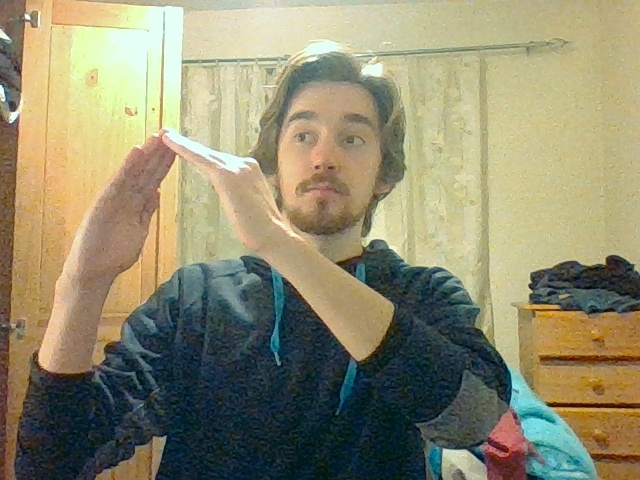home: (102, 128, 266, 226)
